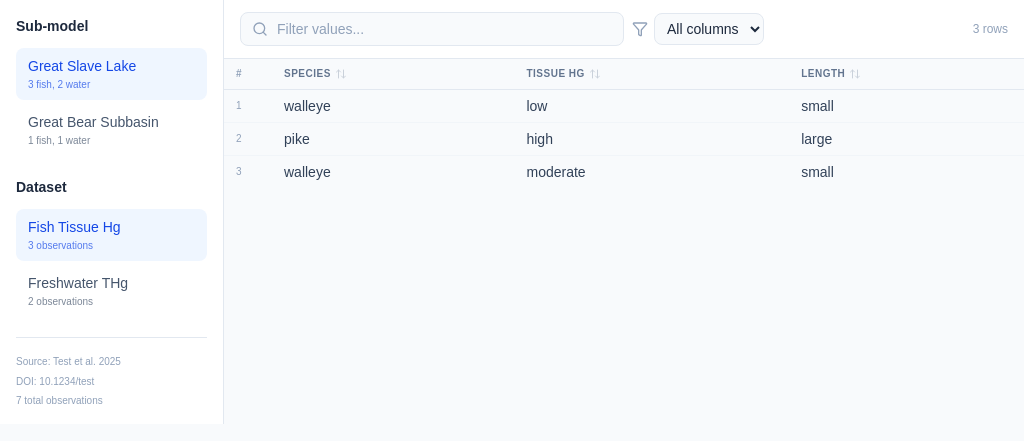
Test: BenchmarkDataViewer › switches to water dataset
This screenshot has width=1024, height=441.
Expected: the button "Fish Tissue Hg 3 observations" is shown, [16,209,207,261]
Click the button "Freshwater THg 2 observations".
click(112, 291)  # box [16,265,207,317]
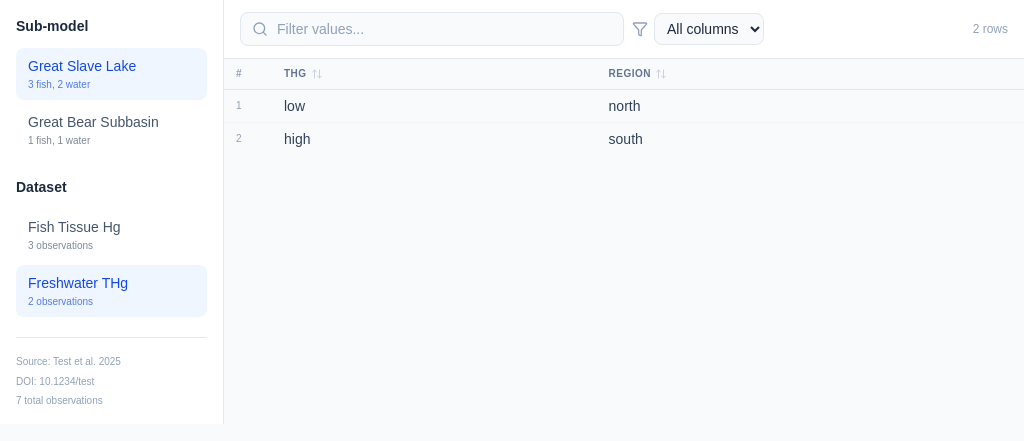
Expected: the text "2 rows" is shown, [973,21,1008,37]
Expected: the element showing "Region" is shown, [609,68,667,80]
